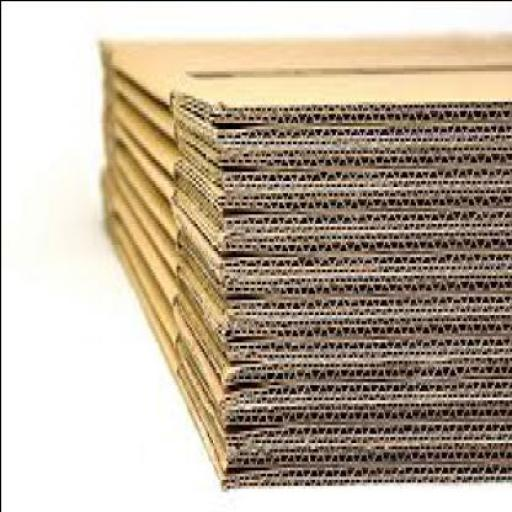cardboard: (102, 34, 511, 482), (172, 60, 511, 479)
